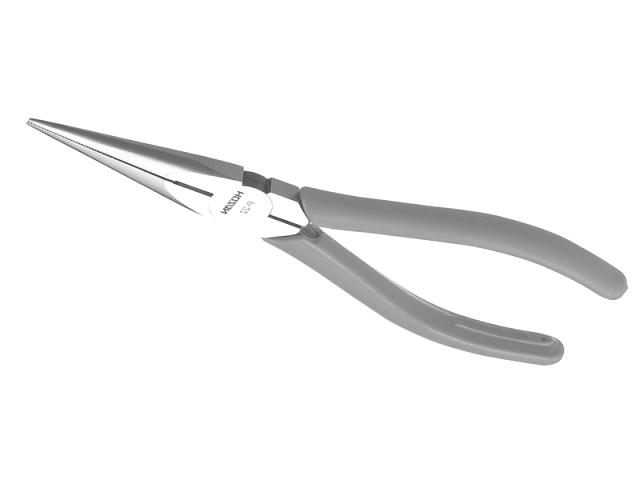Needle-nose pliers: (28, 120, 628, 366)
